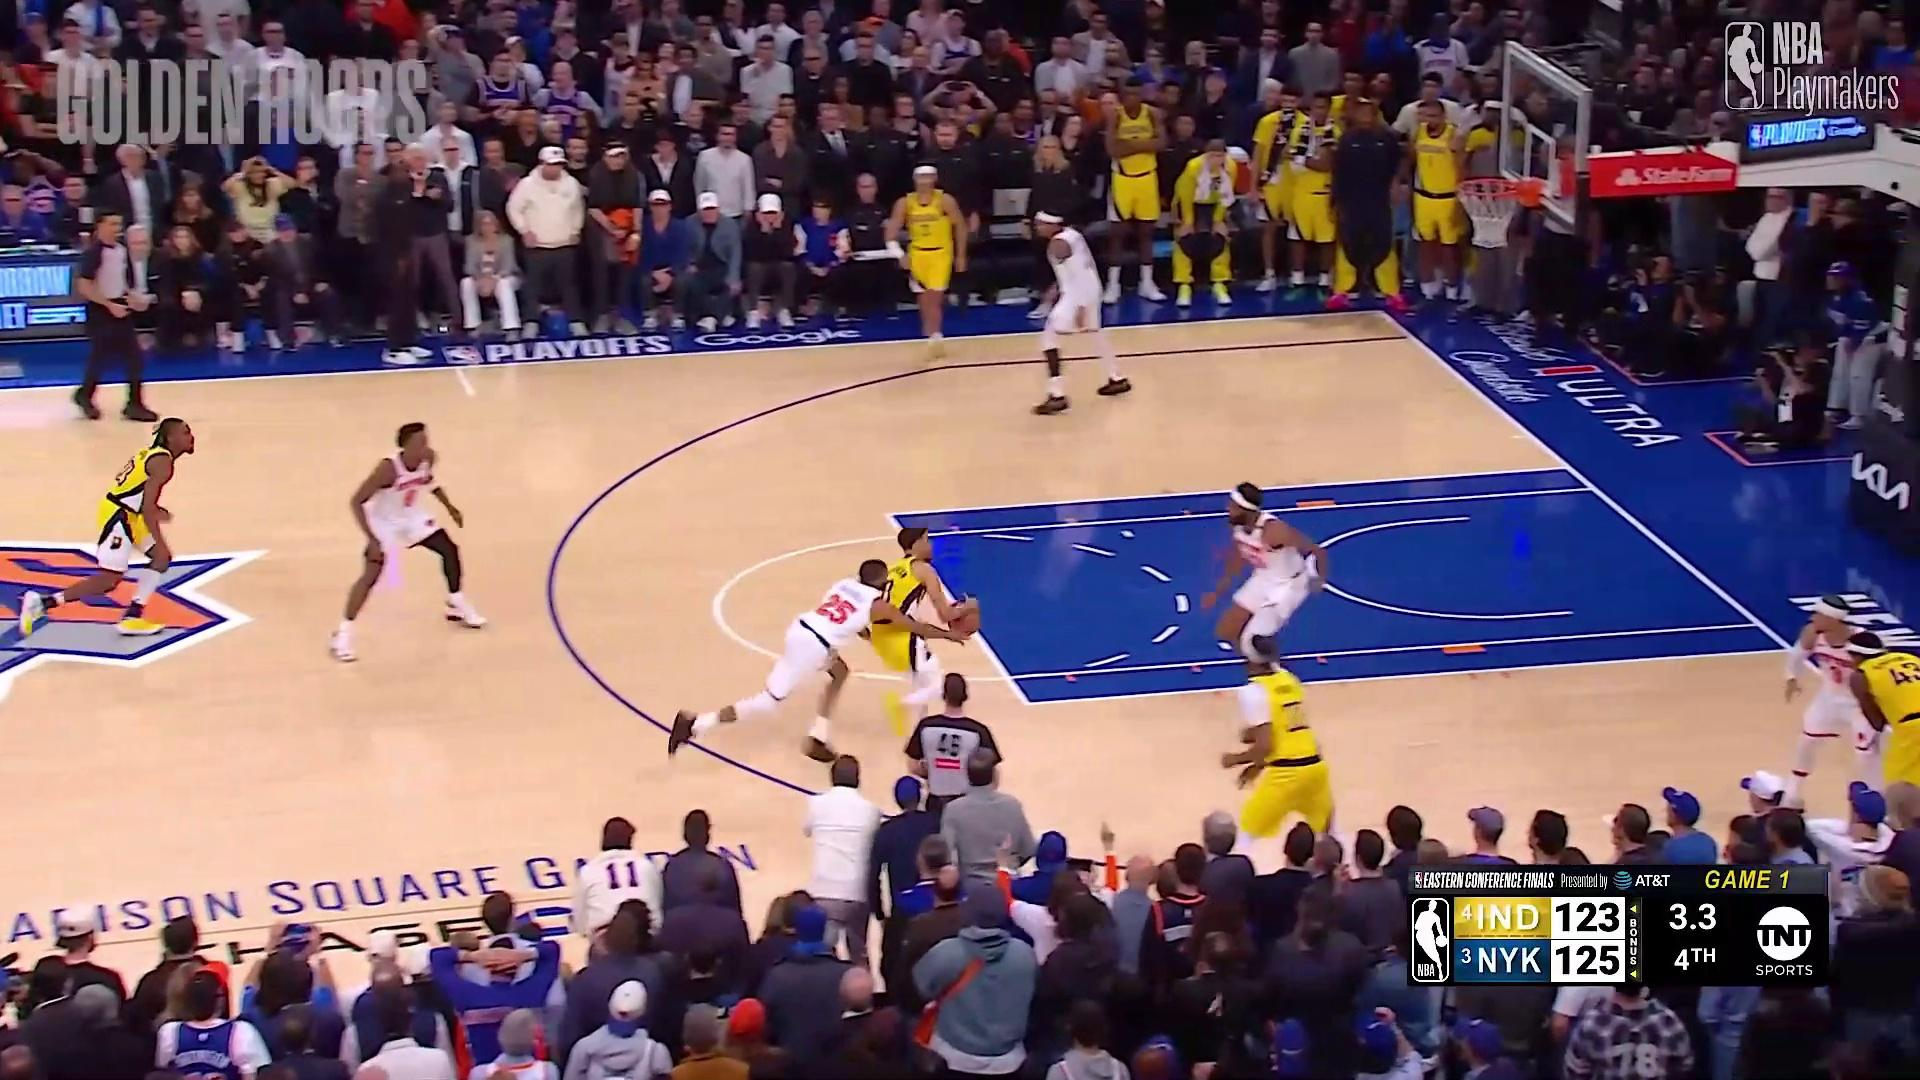ball: (948, 603, 981, 636)
hoop: (1460, 169, 1522, 253)
